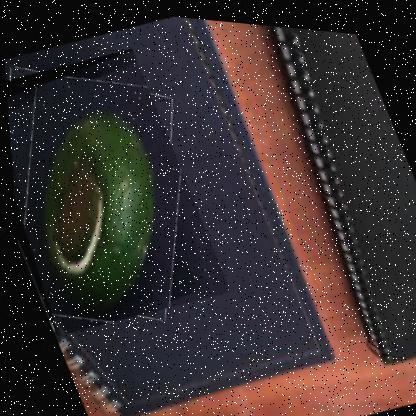orange_rotten: (2, 35, 231, 350)
